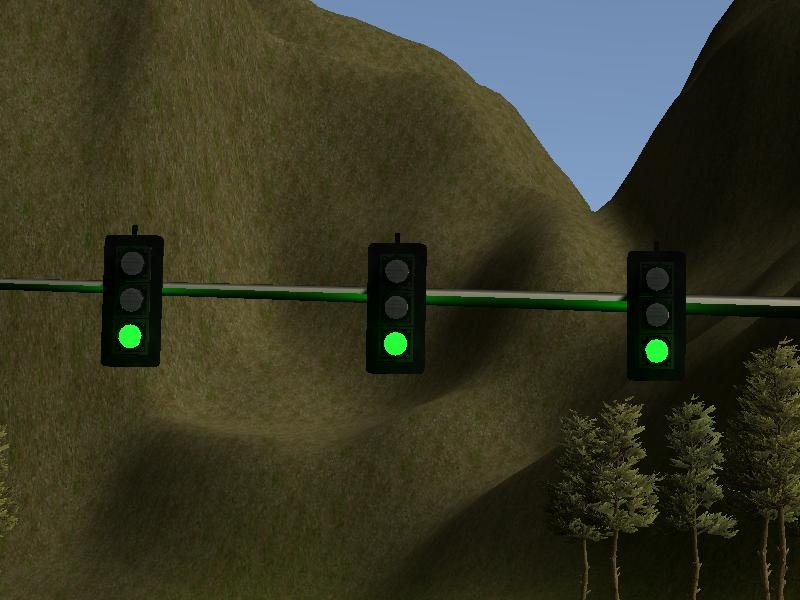green: (98, 232, 166, 369), (363, 239, 430, 375), (624, 247, 688, 384)
